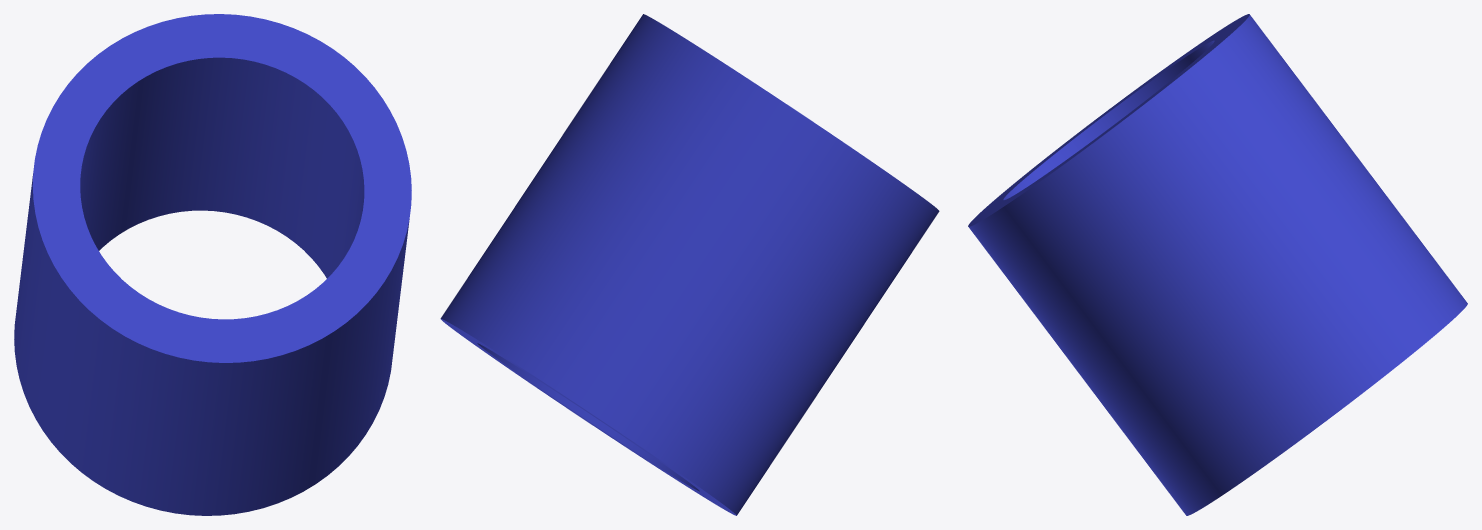
The model's file is 无标题.fbx.
3 views of the same model, side by side, from view 1: azimuth 30°, elevation 25°; view 2: azimuth 150°, elevation 25°; view 3: azimuth 270°, elevation 25° (orthographic). The views are drawn at different scales.
Parts seen in each view (by area): view 1: root; view 2: root; view 3: root.
Boxes of the visible parts, x1,y1,x2,y2 form: root: (14,14,411,515); root: (440,14,939,515); root: (968,14,1467,515).
Size of the model in its own units: 0.8067 by 0.9197 by 0.9098.
